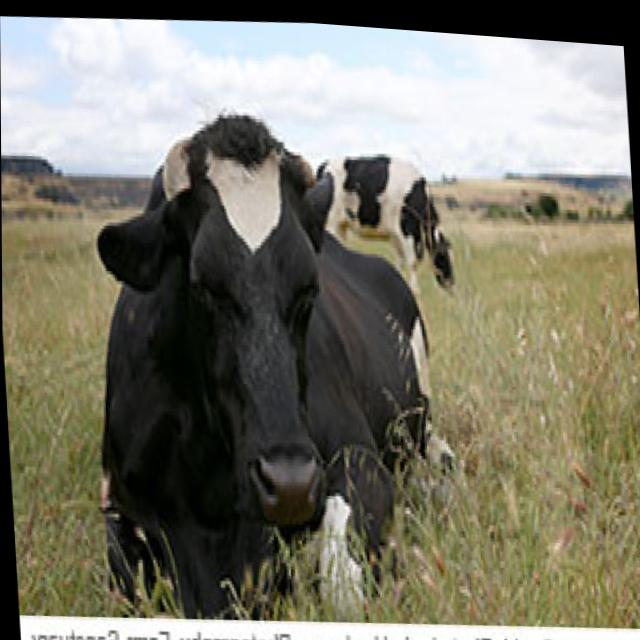cowFace: (84, 100, 359, 552)
